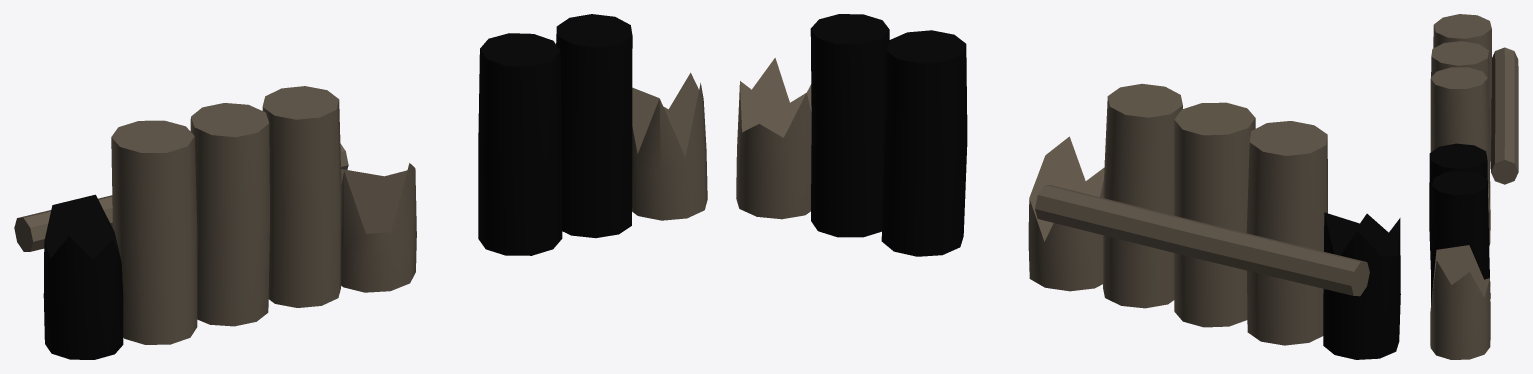
The model's file is bruestung_holz_05_2m_kaputt.glb.
3 views of the same model, side by side, from view 1: azimuth 30°, elevation 25°; view 2: azimuth 150°, elevation 25°; view 3: azimuth 270°, elevation 25° (orthographic). The views are drawn at different scales.
Parts seen in each view (by area): view 1: bruestung_holz_05_2m_kaputt; view 2: bruestung_holz_05_2m_kaputt; view 3: bruestung_holz_05_2m_kaputt.
Part boxes in pixels (left/top/right/bottom): bruestung_holz_05_2m_kaputt: left=14, top=14, right=707, bottom=359; bruestung_holz_05_2m_kaputt: left=736, top=14, right=1400, bottom=359; bruestung_holz_05_2m_kaputt: left=1429, top=14, right=1518, bottom=359.
Size of the model in its own units: 1.79 by 0.5057 by 0.2925.
